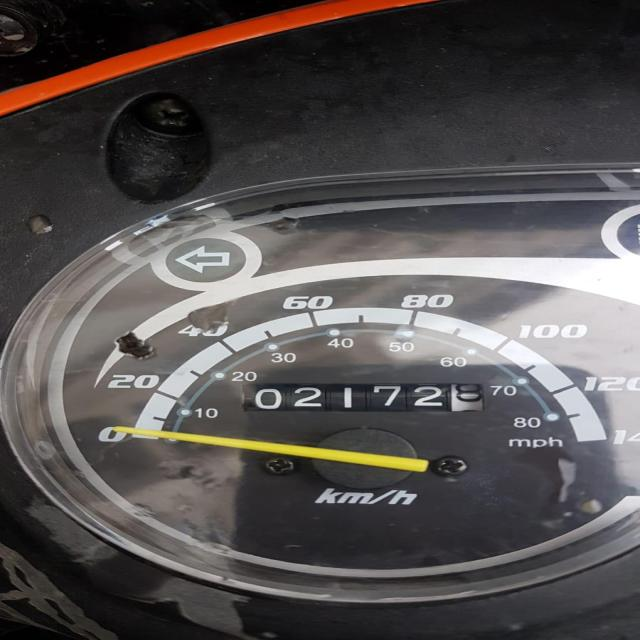odometer: (242, 380, 498, 414)
